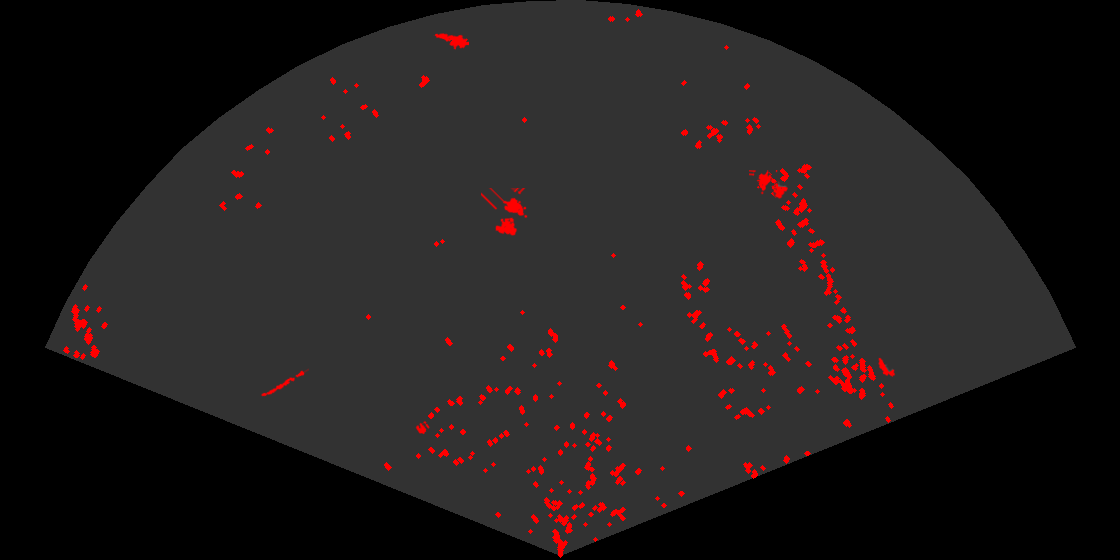AUV: (877, 356, 897, 378)
ball: (414, 419, 431, 436)
cage: (481, 188, 529, 237), (749, 170, 789, 200)
chain: (260, 367, 309, 398)
frogman: (433, 32, 469, 51)
